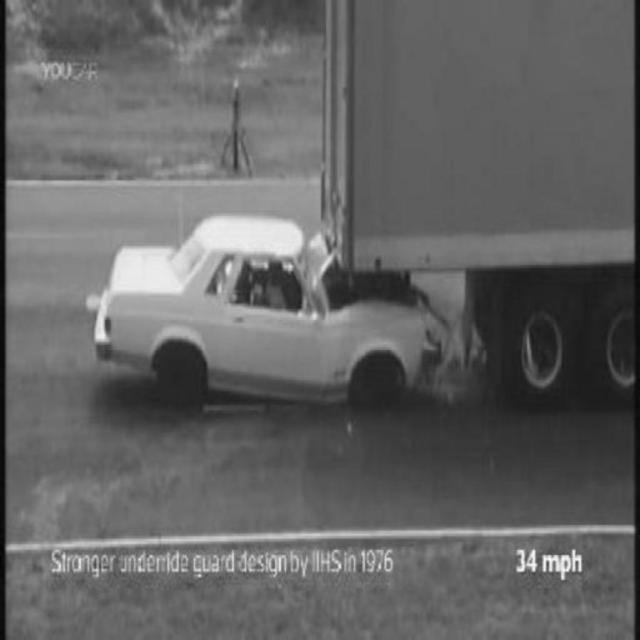accident: (101, 63, 635, 401)
